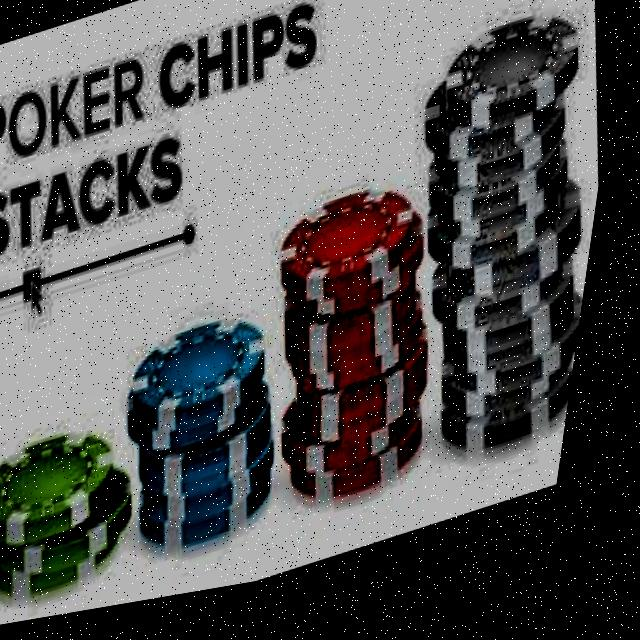Chip: (365, 4, 630, 514), (241, 162, 490, 555), (106, 303, 323, 585), (0, 405, 178, 635)
